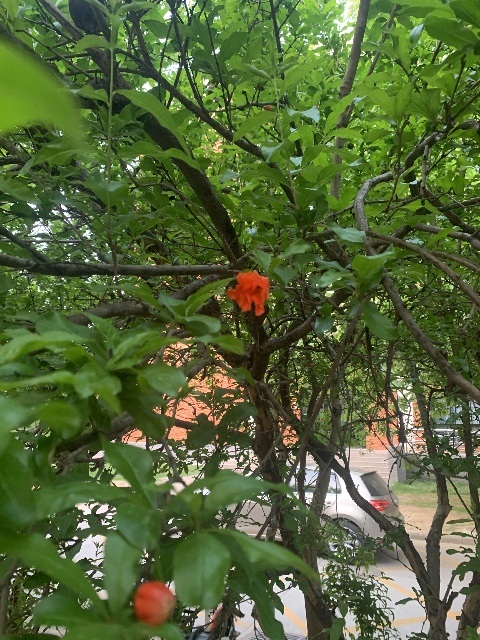bud: (132, 580, 175, 627), (263, 105, 273, 110)
flower: (226, 268, 270, 316)
